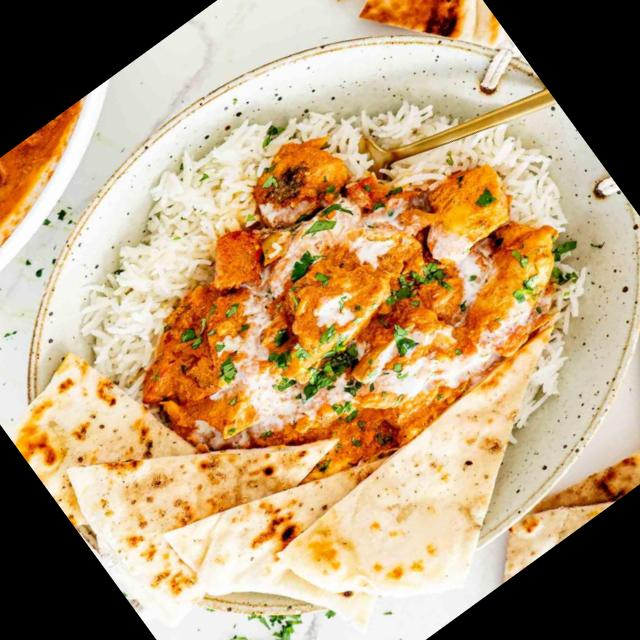chicken: (162, 80, 572, 479)
roti: (17, 323, 366, 640), (318, 328, 640, 606), (467, 310, 640, 564)
